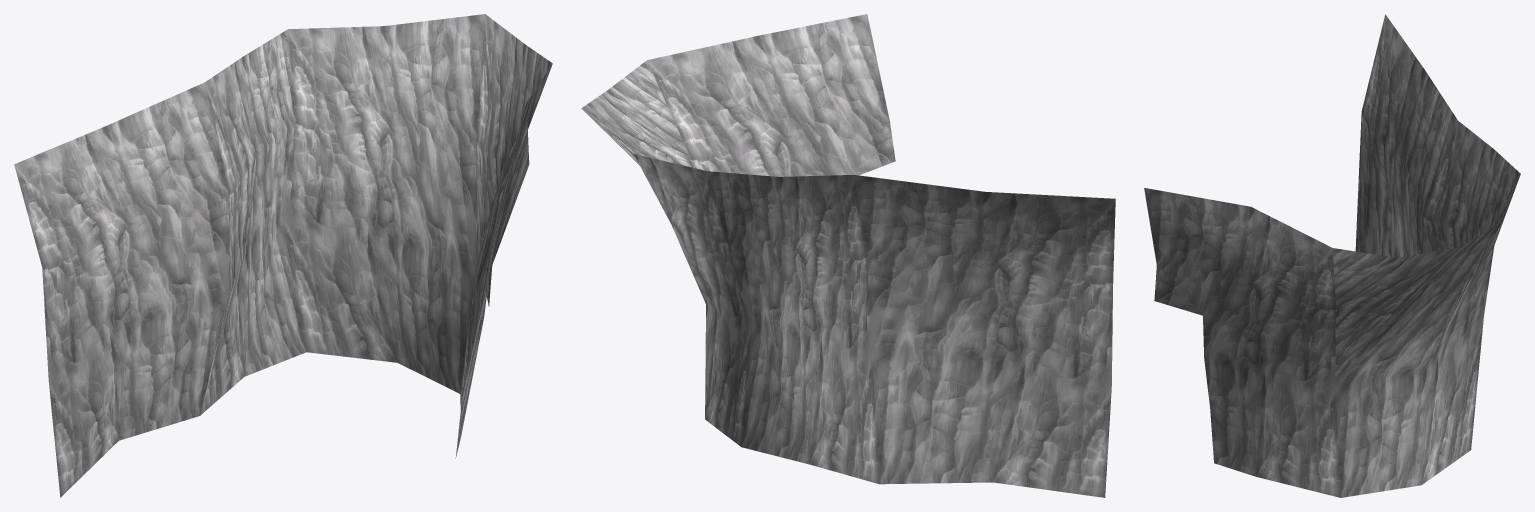
File: SWORDLIGHT20_PS-AREA03_77.fbx
The picture shows the model from 3 angles, left to right: view 1: azimuth 30°, elevation 25°; view 2: azimuth 150°, elevation 25°; view 3: azimuth 270°, elevation 25°; orthographic projection. The views are drawn at different scales.
Visible parts, largest first — view 1: SWORDLIGHT20_PS-AREA03_77; view 2: SWORDLIGHT20_PS-AREA03_77; view 3: SWORDLIGHT20_PS-AREA03_77.
Boxes of the visible parts, x1=… form: SWORDLIGHT20_PS-AREA03_77: x1=14, y1=14, x2=552, y2=497; SWORDLIGHT20_PS-AREA03_77: x1=581, y1=14, x2=1115, y2=497; SWORDLIGHT20_PS-AREA03_77: x1=1144, y1=14, x2=1520, y2=497.
Size of the model in its own units: 199629 by 123570 by 135723.
1 material, 1 textured.
